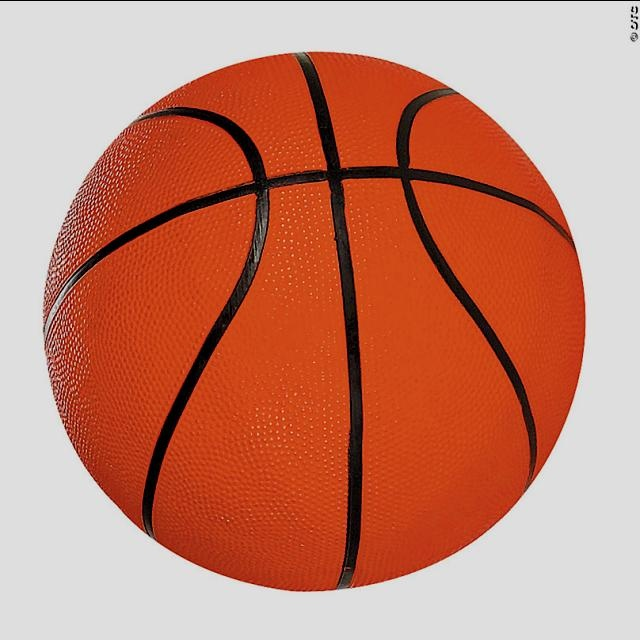agrume: (37, 71, 575, 597)
